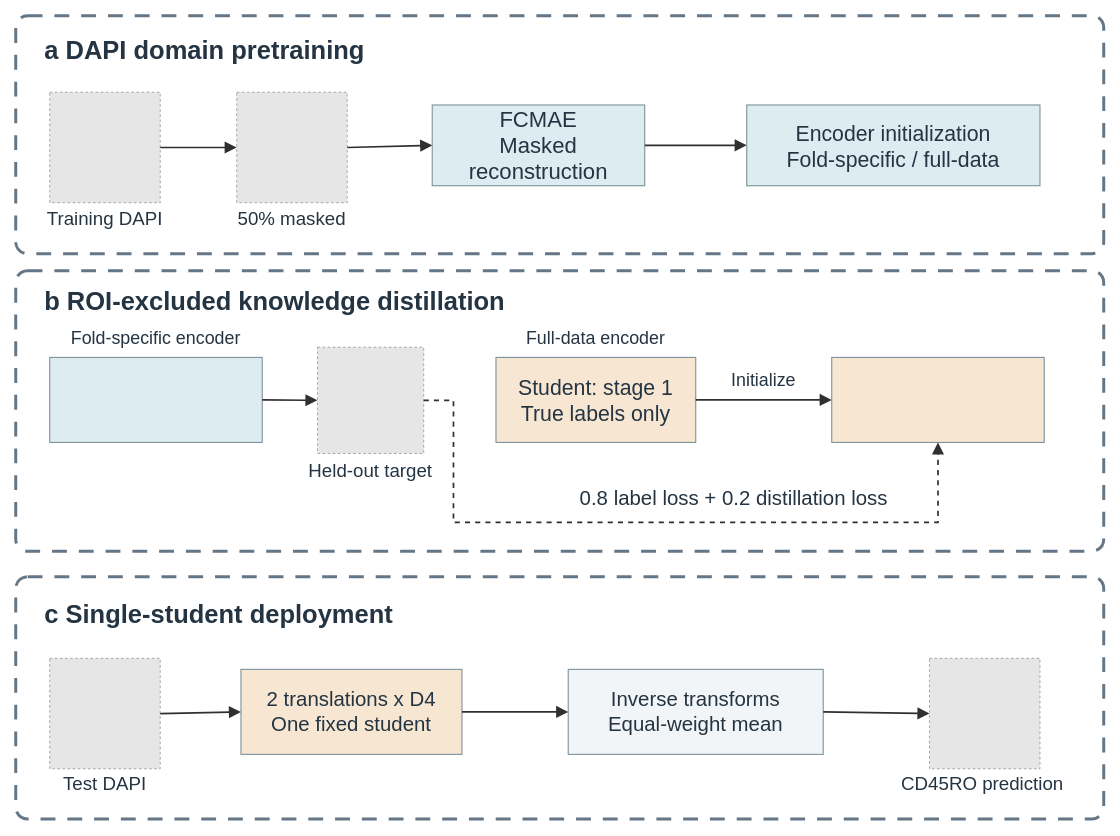
Image size: 1120x836. Some labels were removed from this diagram. Grey dashed boxes stand in for pictures. Here are the shapes that lost their labels. From the top down, the centre of each, then its label:
At point 155,399: "Five fold teachers Supervised on training ROIs".
At point 937,399: "Student: stage 2 Labels + teacher target".
